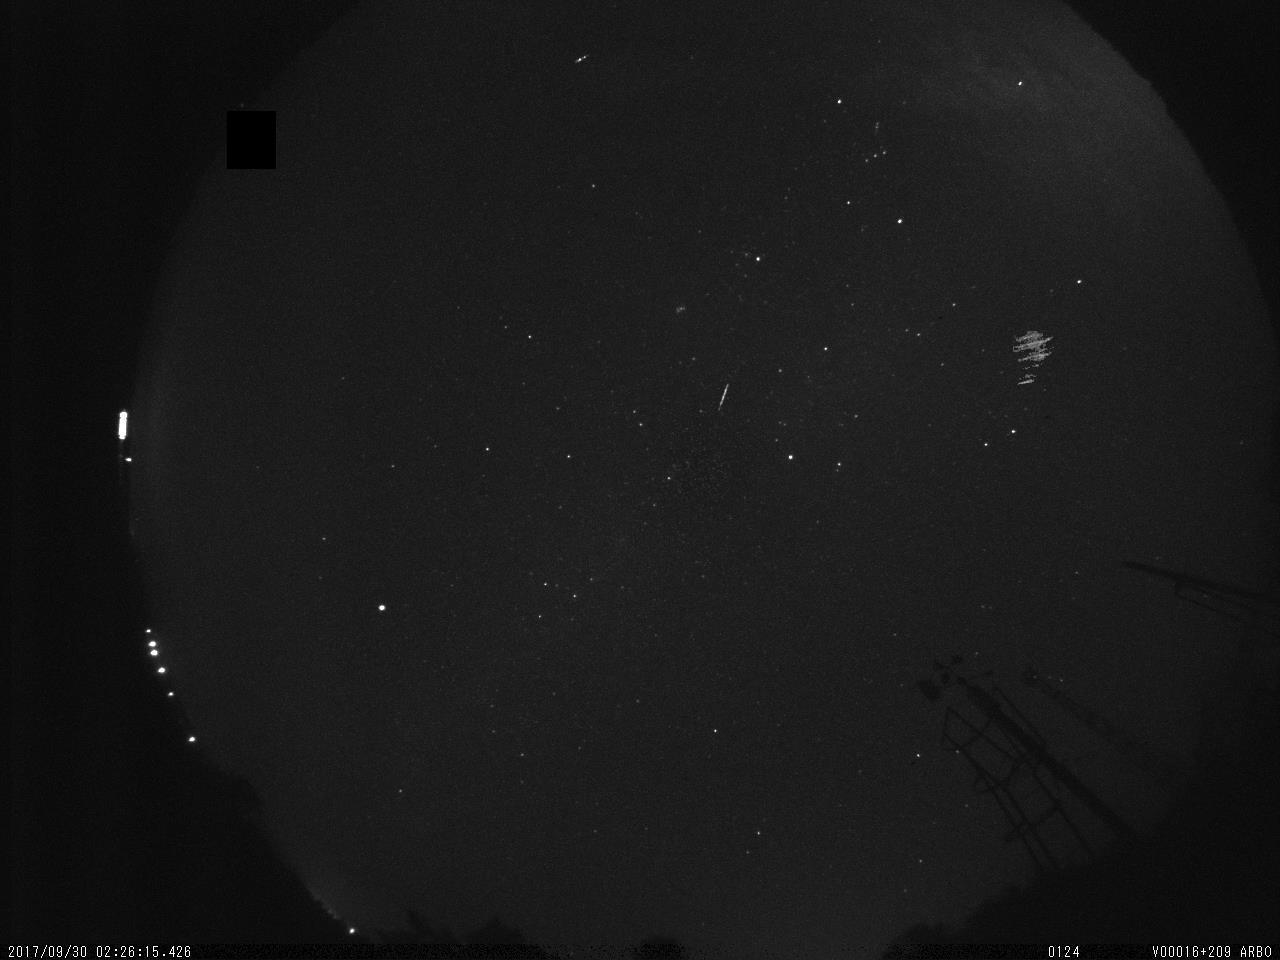TLE: (1006, 322, 1061, 397)
